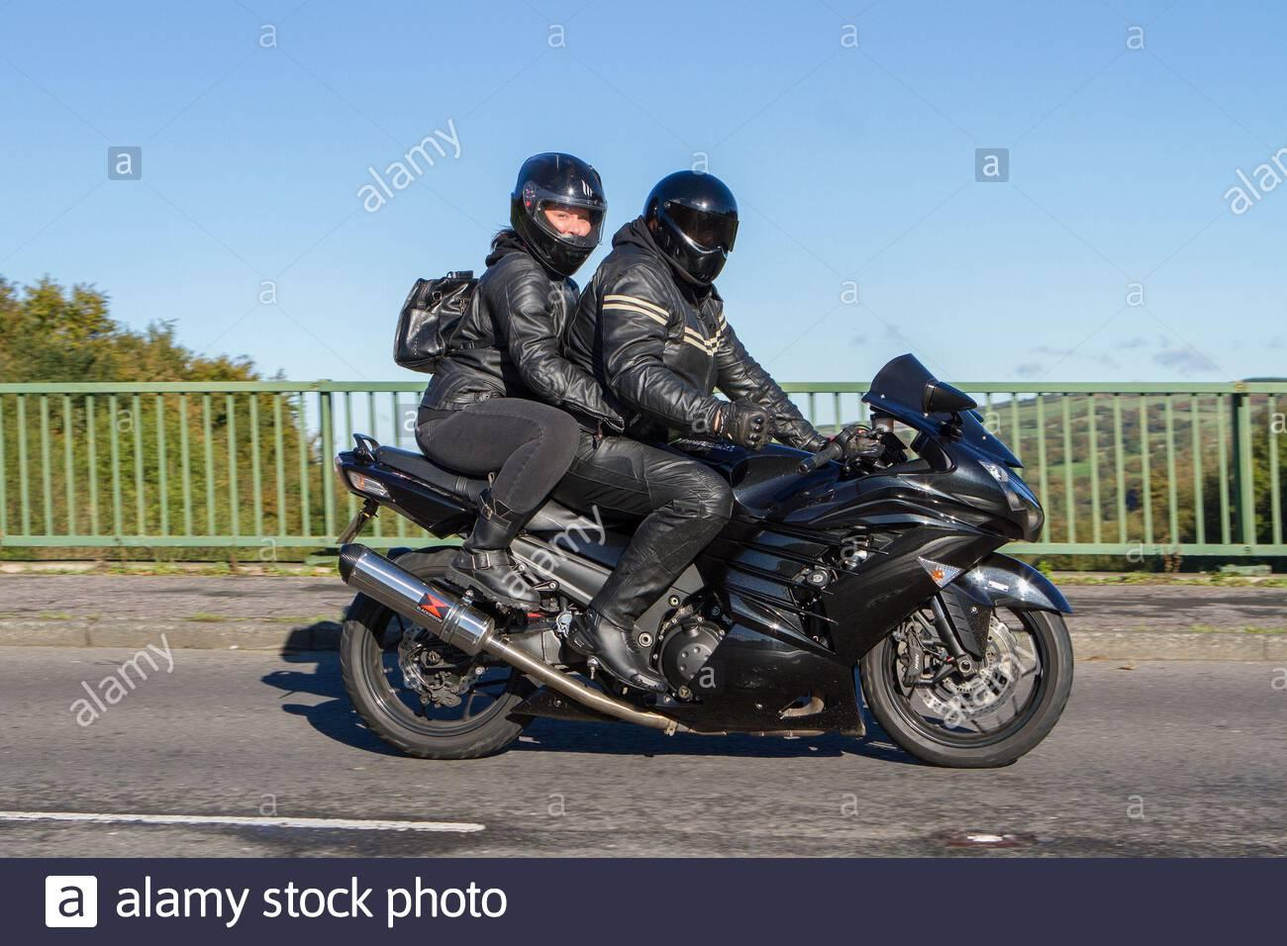helmet: (632, 161, 756, 312), (500, 129, 604, 281)
